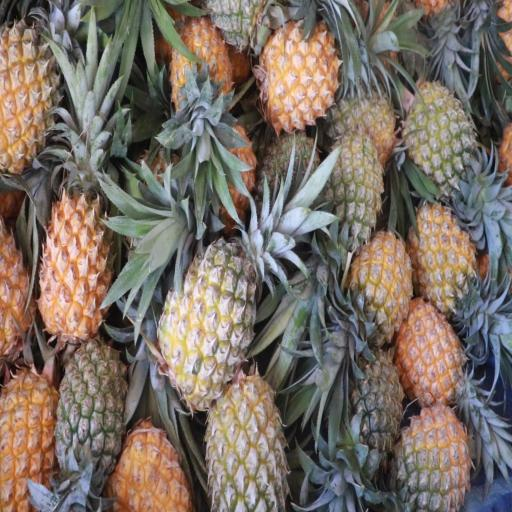------------------------------: (158, 241, 254, 400), (206, 381, 284, 512)
Pineapple - v8 v1: (40, 190, 111, 344), (0, 21, 62, 162), (0, 367, 61, 509), (263, 27, 339, 125), (410, 203, 476, 312), (113, 420, 189, 512), (350, 231, 412, 338), (400, 302, 465, 404), (170, 21, 231, 117)
